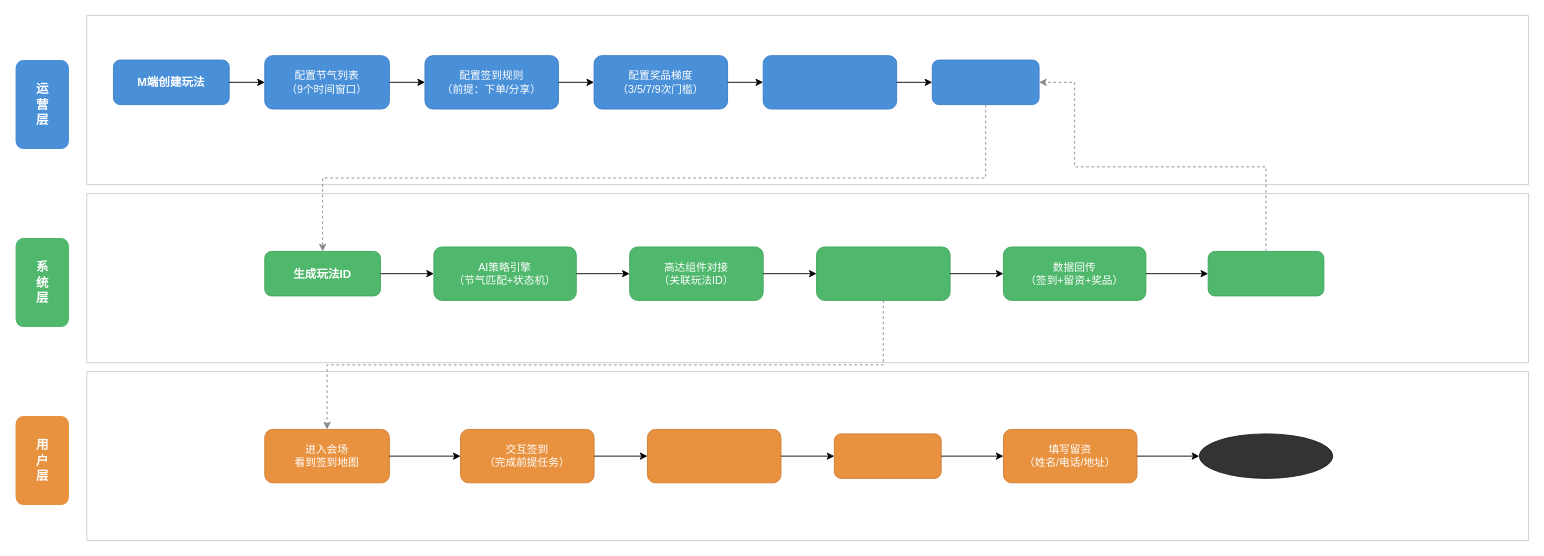
Some shapes in this 1544 by 556 pixel diagram are drawn without their labels. Here are the shapes that lost their labels. From the top down, the box of each, then its label:
(762, 55, 897, 109): 配置留资表单 （姓名/电话/地址）
(931, 59, 1039, 105): 预览 & 提交
(816, 246, 950, 300): C端动态渲染 （状态机驱动）
(1207, 251, 1324, 296): M端数据看板
(647, 429, 781, 483): 查看奖品进度 （3/5/7/9次门槛）
(833, 433, 941, 478): 领取奖品
(1198, 433, 1333, 478): 等待收货 / 完成
